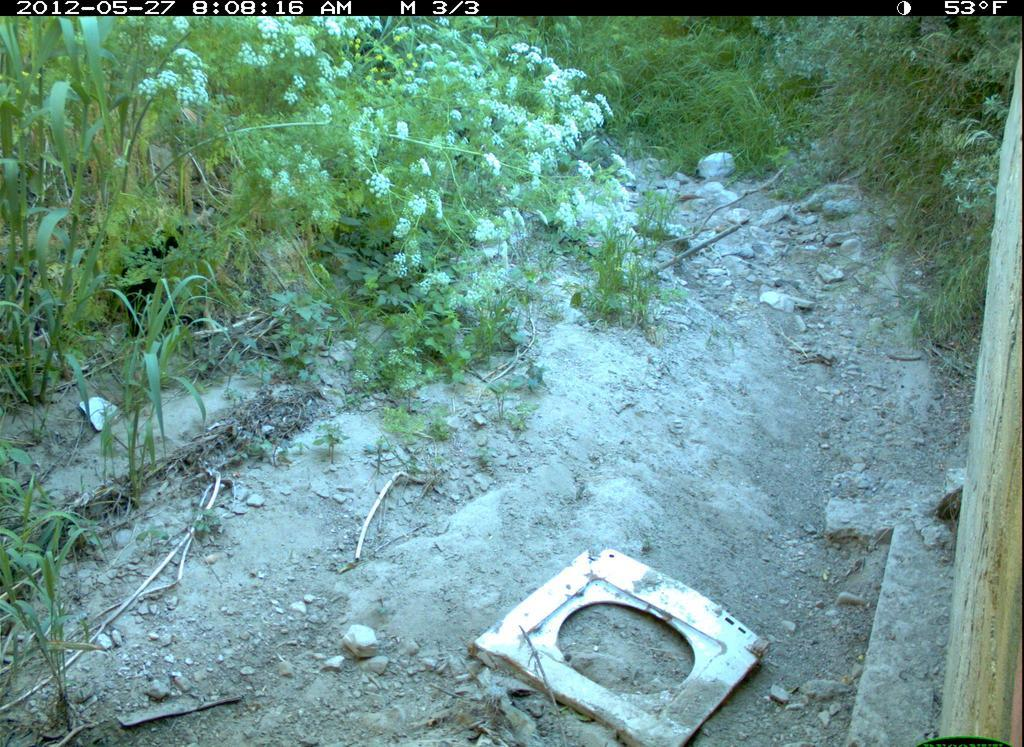cat: (114, 223, 188, 340)
